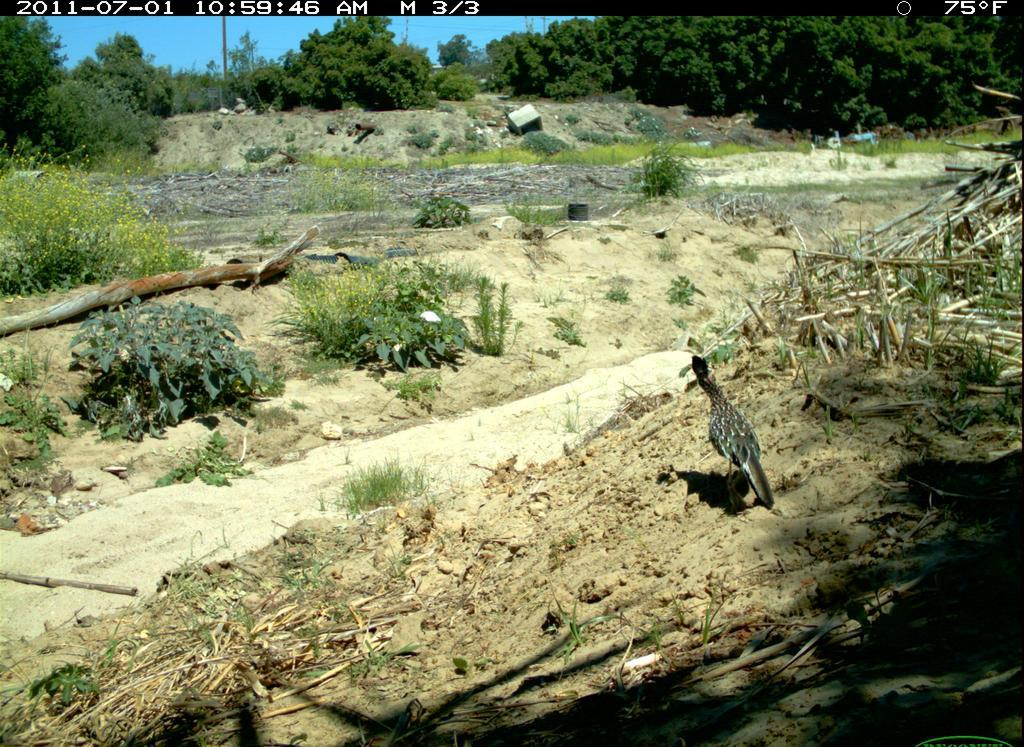bird: (683, 352, 783, 521)
